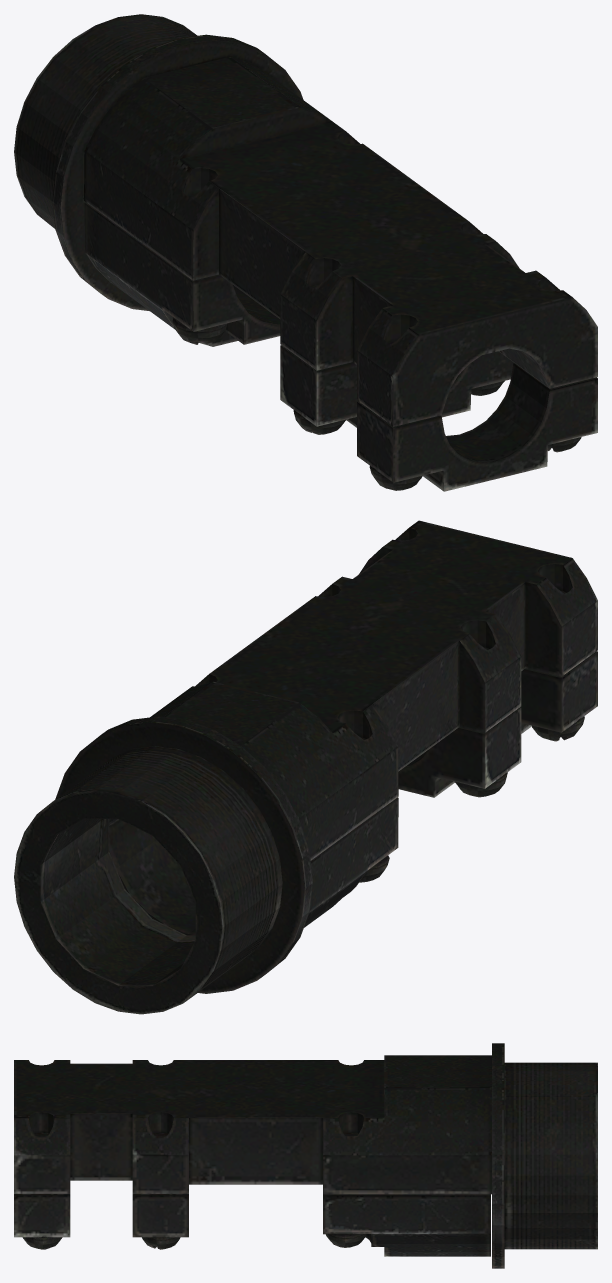
The picture shows the model from 3 angles, top to bottom: view 1: azimuth 30°, elevation 25°; view 2: azimuth 150°, elevation 25°; view 3: azimuth 270°, elevation 25°; orthographic projection. The views are drawn at different scales.
Visible parts, largest first — view 1: TW_5e01e9e273d8eb11426f5bc3_PZ_Import; view 2: TW_5e01e9e273d8eb11426f5bc3_PZ_Import; view 3: TW_5e01e9e273d8eb11426f5bc3_PZ_Import.
Boxes of the visible parts, x1=… form: TW_5e01e9e273d8eb11426f5bc3_PZ_Import: x1=14, y1=14, x2=597, y2=491; TW_5e01e9e273d8eb11426f5bc3_PZ_Import: x1=14, y1=520, x2=597, y2=1014; TW_5e01e9e273d8eb11426f5bc3_PZ_Import: x1=14, y1=1043, x2=597, y2=1268.
Size of the model in its own units: 0.024 by 0.0622 by 0.0241.
Materials: 1 (1 with a texture image).
